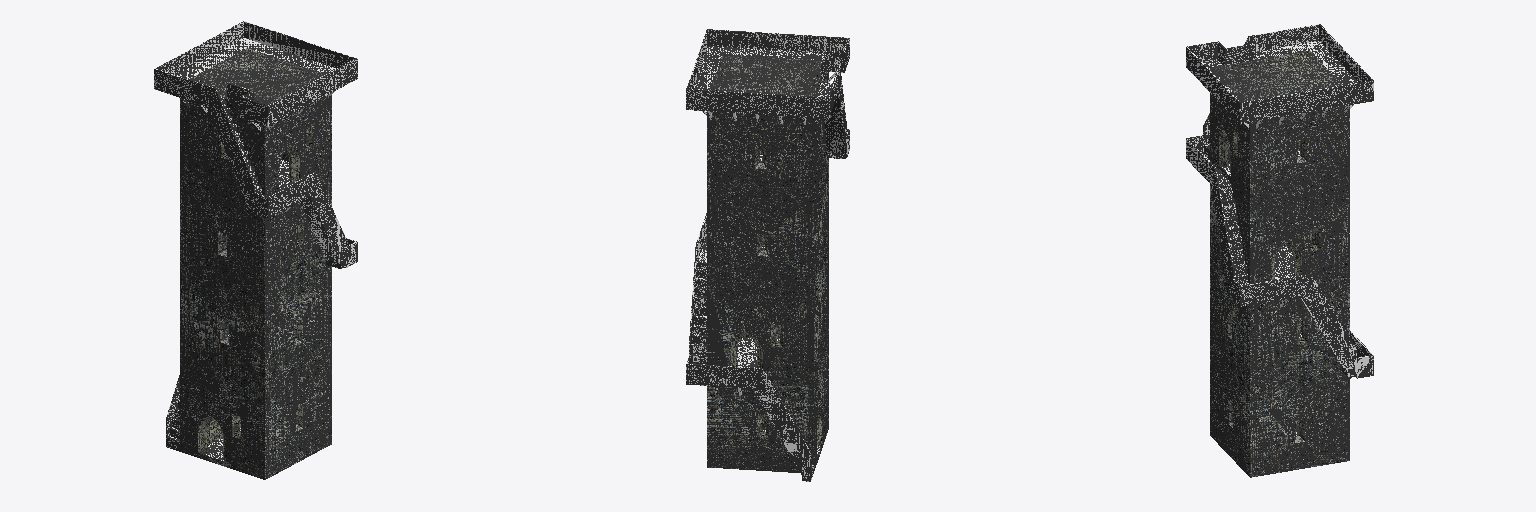
3 views of the same model, side by side, from view 1: azimuth 30°, elevation 25°; view 2: azimuth 150°, elevation 25°; view 3: azimuth 270°, elevation 25° (orthographic).
Parts seen in each view (by area): view 1: mesh2_mesh2-geometry, mesh6_mesh6-geometry, mesh3_mesh3-geometry, mesh1_mesh1-geometry; view 2: mesh2_mesh2-geometry, mesh6_mesh6-geometry, mesh3_mesh3-geometry, mesh1_mesh1-geometry; view 3: mesh2_mesh2-geometry, mesh6_mesh6-geometry, mesh3_mesh3-geometry, mesh1_mesh1-geometry.
Boxes of the visible parts, x1,y1,x2,y2 form: mesh2_mesh2-geometry: [180, 95, 331, 479]; mesh6_mesh6-geometry: [166, 21, 357, 126]; mesh3_mesh3-geometry: [154, 63, 357, 451]; mesh1_mesh1-geometry: [218, 125, 311, 438]; mesh2_mesh2-geometry: [707, 70, 828, 472]; mesh6_mesh6-geometry: [686, 29, 849, 117]; mesh3_mesh3-geometry: [686, 66, 849, 481]; mesh1_mesh1-geometry: [755, 120, 823, 437]; mesh2_mesh2-geometry: [1210, 93, 1349, 477]; mesh6_mesh6-geometry: [1186, 31, 1373, 123]; mesh3_mesh3-geometry: [1186, 24, 1373, 378]; mesh1_mesh1-geometry: [1228, 131, 1320, 442].
Bounding box in the file's own units: 0.3754 × 0.8474 × 0.3754.
Materials: 6 (3 with a texture image).